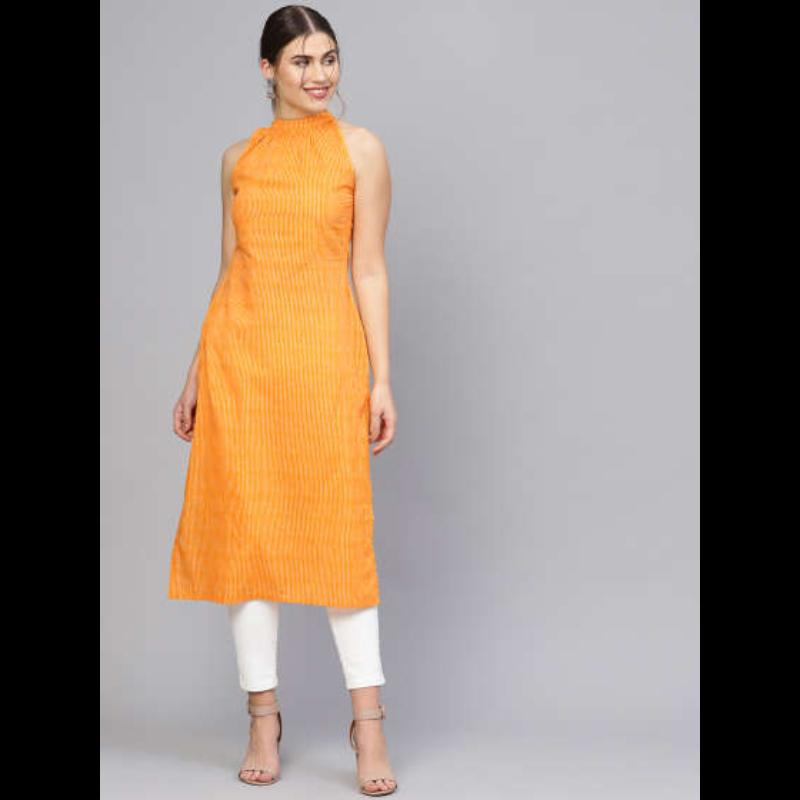Pant: (218, 606, 390, 698)
kurta: (201, 125, 390, 604)
